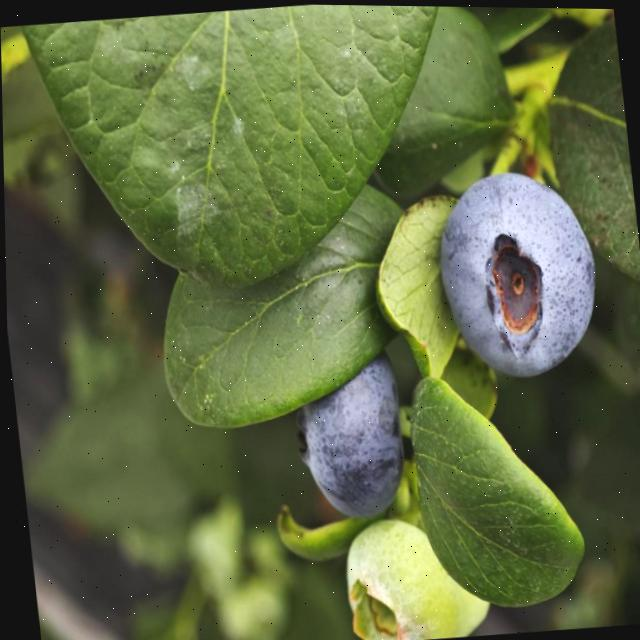RipeBlueBerry: (428, 160, 606, 388), (284, 353, 412, 527)
UnripeBlueBerry: (335, 515, 462, 640)
